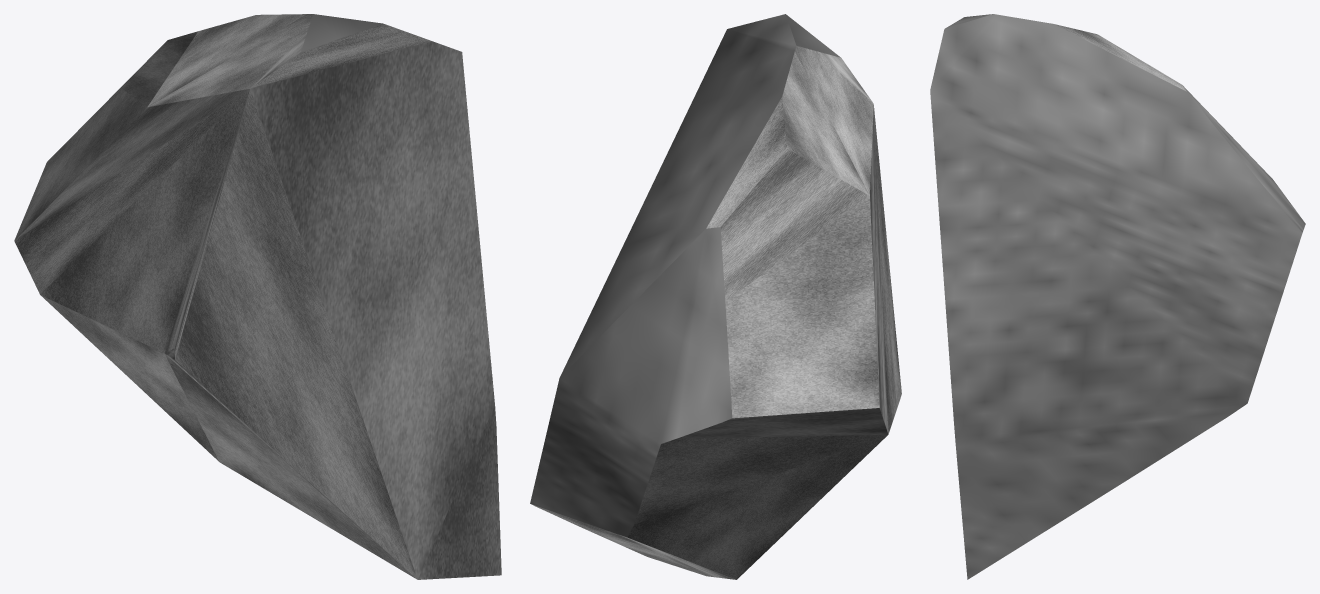
The model's file is leg_2_cell_017.fbx.
The picture shows the model from 3 angles, left to right: view 1: azimuth 30°, elevation 25°; view 2: azimuth 150°, elevation 25°; view 3: azimuth 270°, elevation 25°; orthographic projection. The views are drawn at different scales.
Parts seen in each view (by area): view 1: leg_2_cell.017; view 2: leg_2_cell.017; view 3: leg_2_cell.017.
Part boxes in pixels (x1,y1,x2,y2): leg_2_cell.017: (14,14,501,579); leg_2_cell.017: (530,14,901,579); leg_2_cell.017: (930,14,1305,579).
Bounding box in the file's own units: 27.24 × 42.23 × 28.93.
